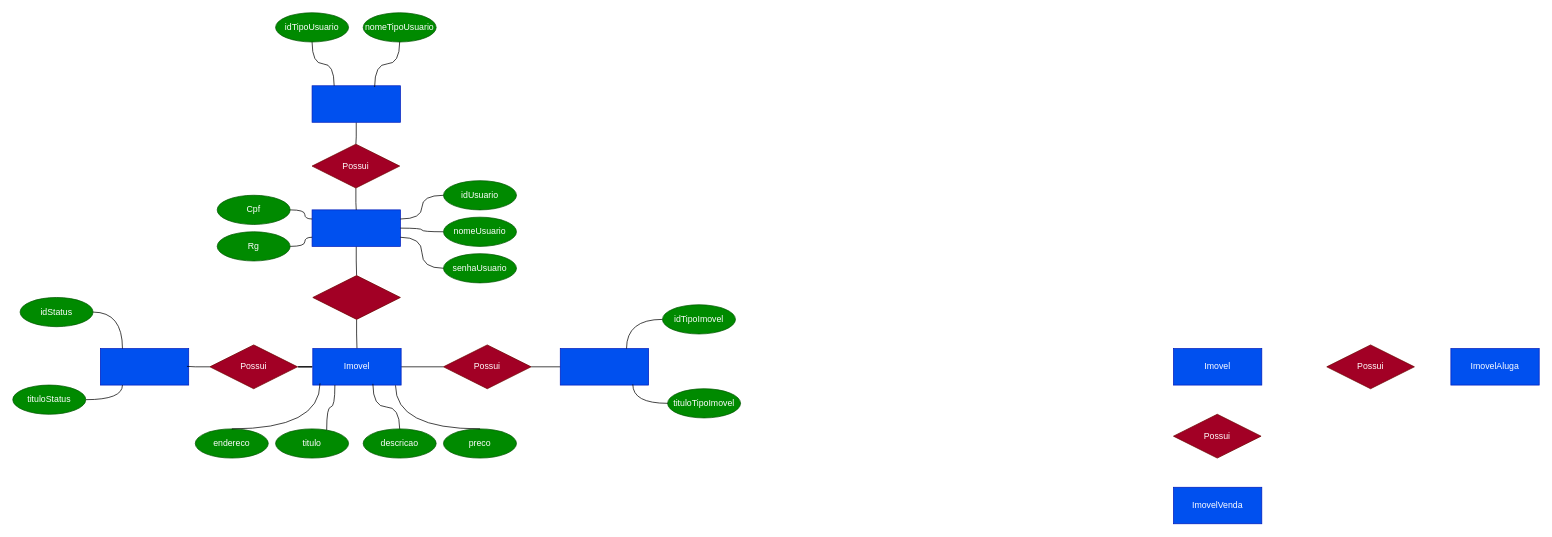
This 1552x537 diagram has some shape labels left out. The shapes that lost their labels are listed below. From the top down, each one's centre as x and y in pixels, then its label:
At (x=355, y=103): "TipoUsuario".
At (x=355, y=227): "Usuario".
At (x=356, y=297): "Cadastra / Vizualiza".
At (x=144, y=366): "StatusImovel".
At (x=604, y=366): "TipoImovel".
